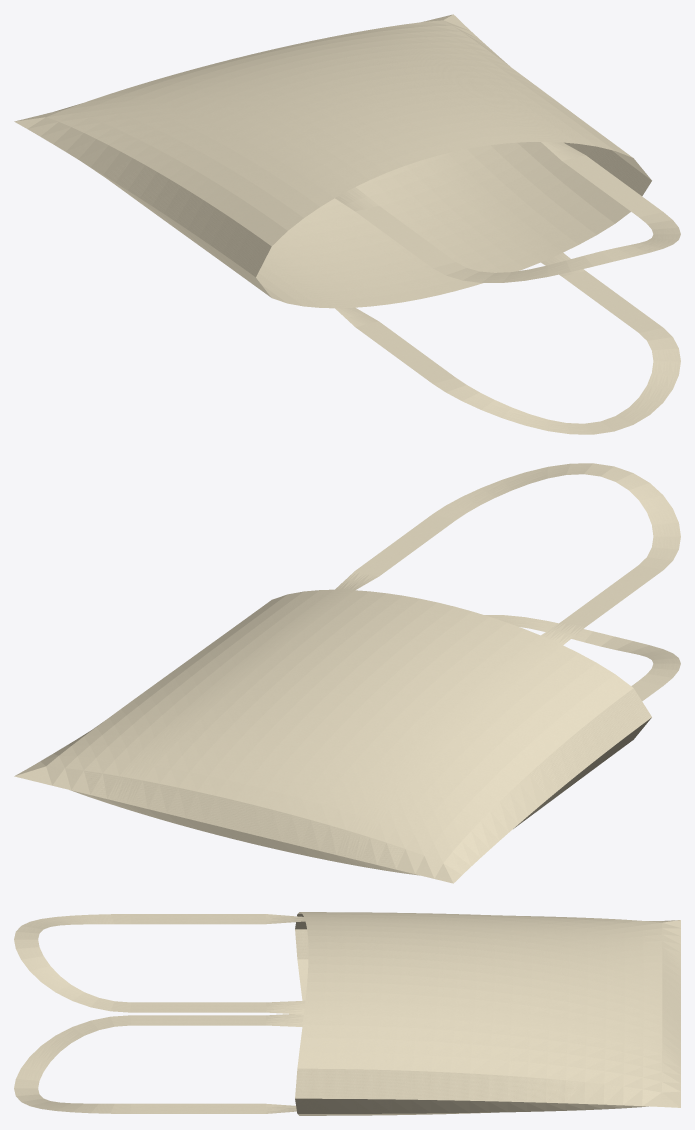
File: two_panel_bag_wide_tall_long_handles_coarse.obj
The picture shows the model from 3 angles, top to bottom: view 1: azimuth 30°, elevation 25°; view 2: azimuth 150°, elevation 25°; view 3: azimuth 270°, elevation 25°; orthographic projection. The views are drawn at different scales.
Size of the model in its own units: 0.46 by 0.17 by 0.6898.
1 material, 1 textured.
